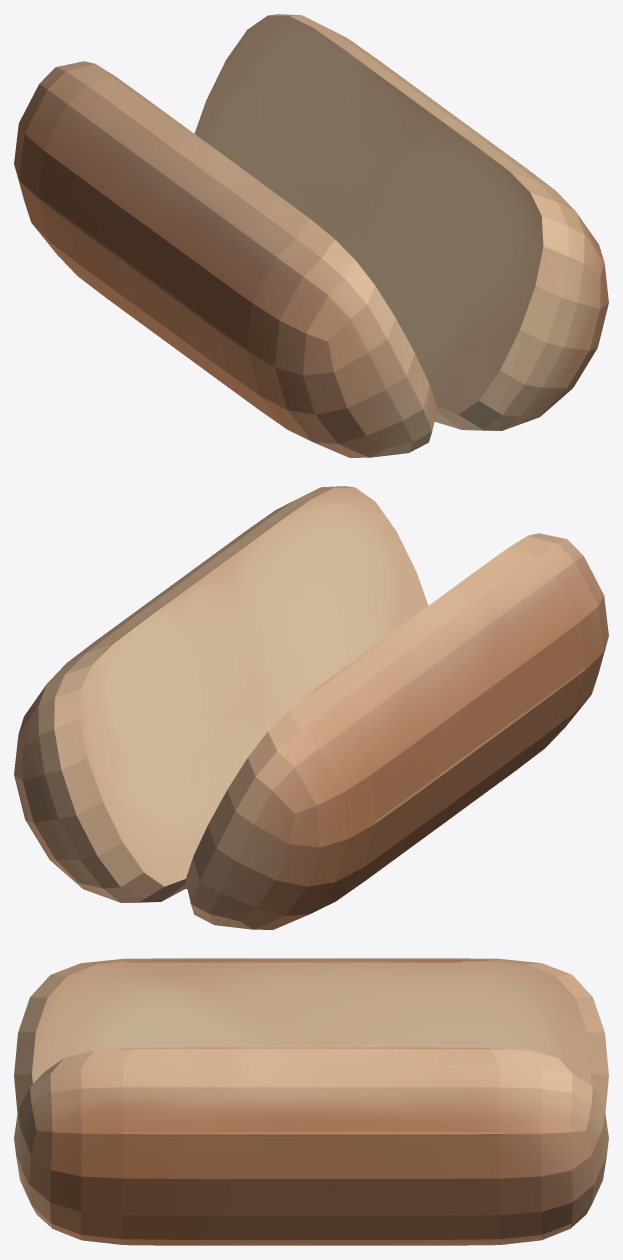
The model's file is 熱狗麵包_塗色完成.fbx.
The picture shows the model from 3 angles, top to bottom: view 1: azimuth 30°, elevation 25°; view 2: azimuth 150°, elevation 25°; view 3: azimuth 270°, elevation 25°; orthographic projection. The views are drawn at different scales.
Visible parts, largest first — view 1: Cube.002; view 2: Cube.002; view 3: Cube.002.
Part boxes in pixels (x1,y1,x2,y2): Cube.002: (14, 14, 608, 457); Cube.002: (14, 486, 608, 929); Cube.002: (14, 958, 608, 1245).
Bounding box in the file's own units: 52.68 × 34.21 × 88.93.
